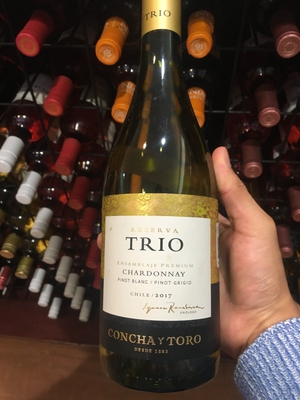trio chardonnay: (98, 16, 233, 400)
